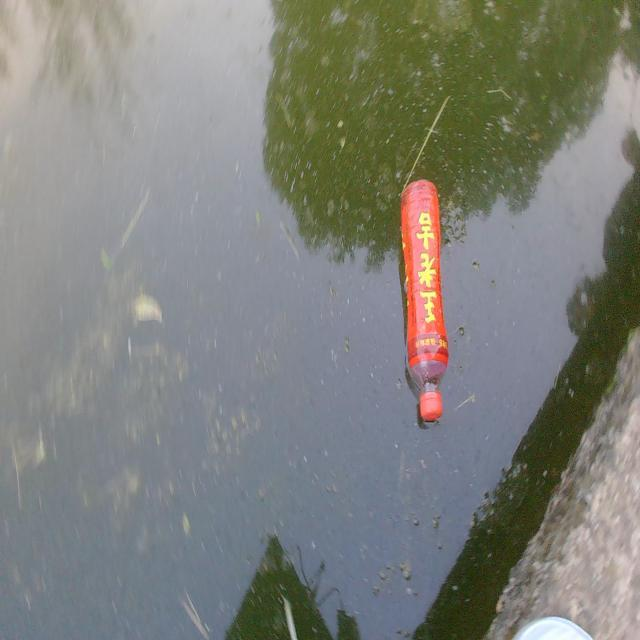bottle: (388, 175, 471, 428)
